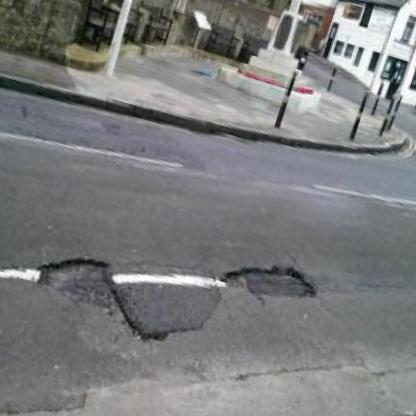pothole: (223, 246, 325, 316), (32, 238, 125, 312)
